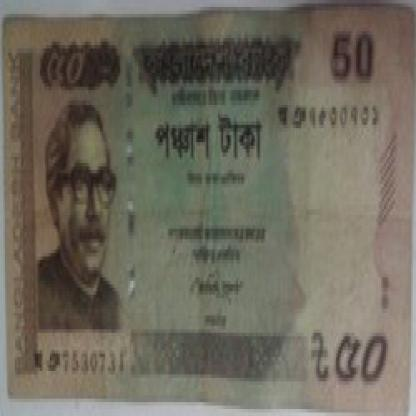Fifty taka: (321, 326, 396, 399), (35, 38, 100, 101)
